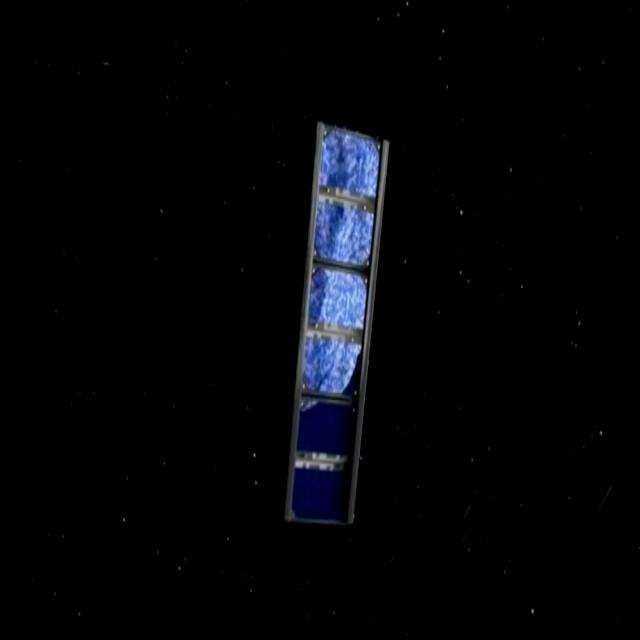large_debris: (267, 97, 398, 542)
